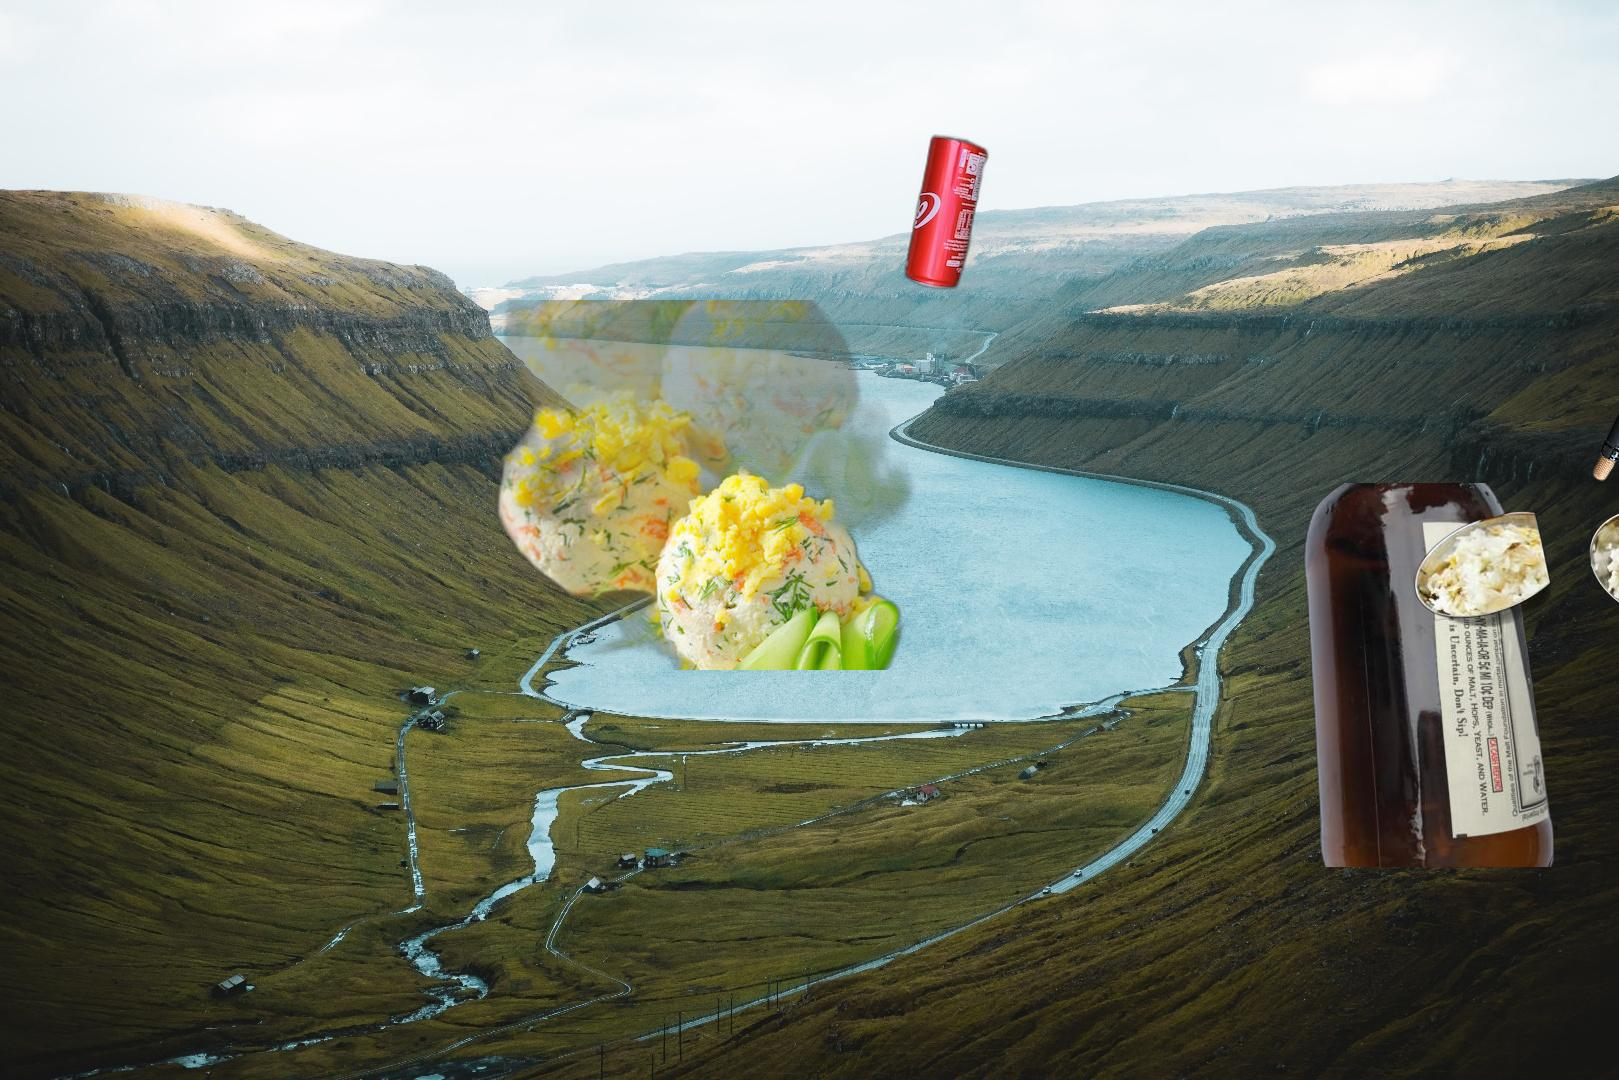biological: (450, 300, 979, 670), (1413, 503, 1619, 704)
glass: (1300, 483, 1559, 867), (1588, 217, 1619, 487)
metal-cans: (901, 129, 993, 294)
